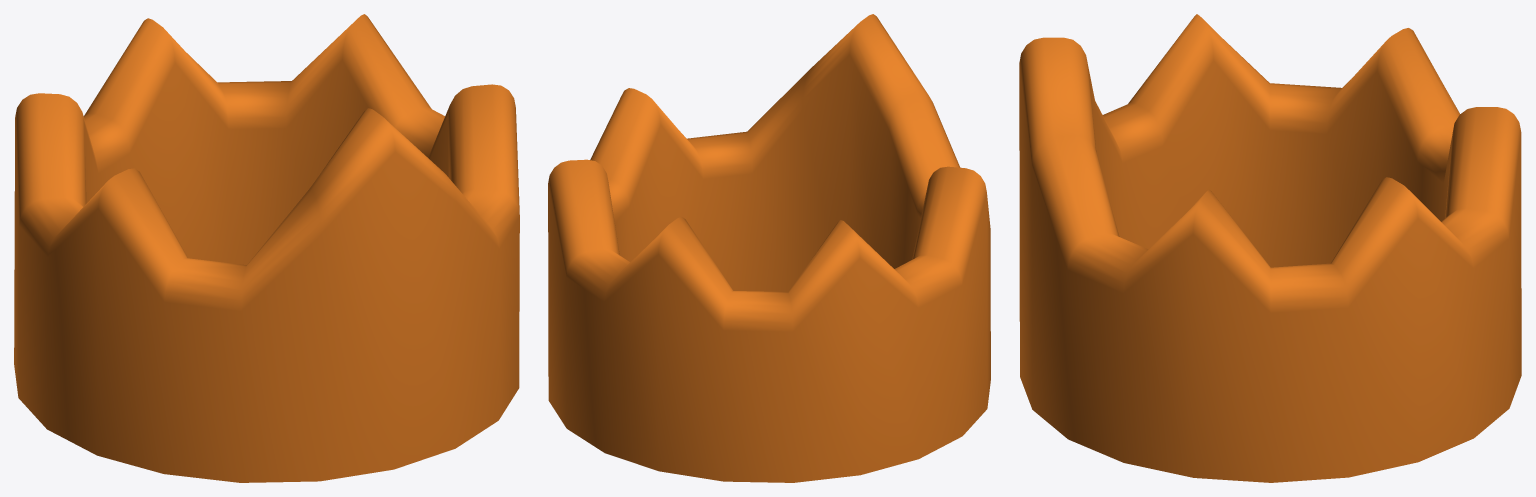
File: KingCap.fbx
3 renders of one model, left to right at view 1: azimuth 30°, elevation 25°; view 2: azimuth 150°, elevation 25°; view 3: azimuth 270°, elevation 25°, orthographic. The views are drawn at different scales.
Parts seen in each view (by area): view 1: King Cap; view 2: King Cap; view 3: King Cap.
Part boxes in pixels (<box>): King Cap: <box>14,14,519,482</box>; King Cap: <box>548,14,990,482</box>; King Cap: <box>1019,14,1521,482</box>.
Size of the model in its own units: 18.93 by 14.14 by 18.93.
1 material, 1 textured.
